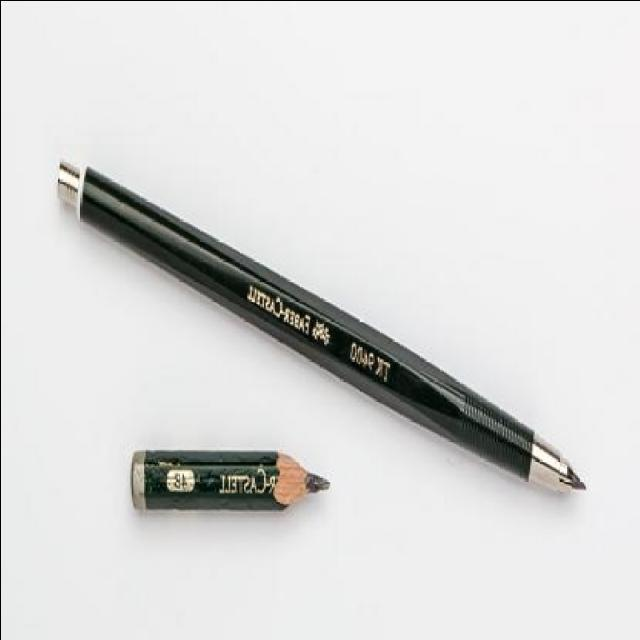Pencil: (258, 432, 336, 550), (519, 421, 595, 514)
